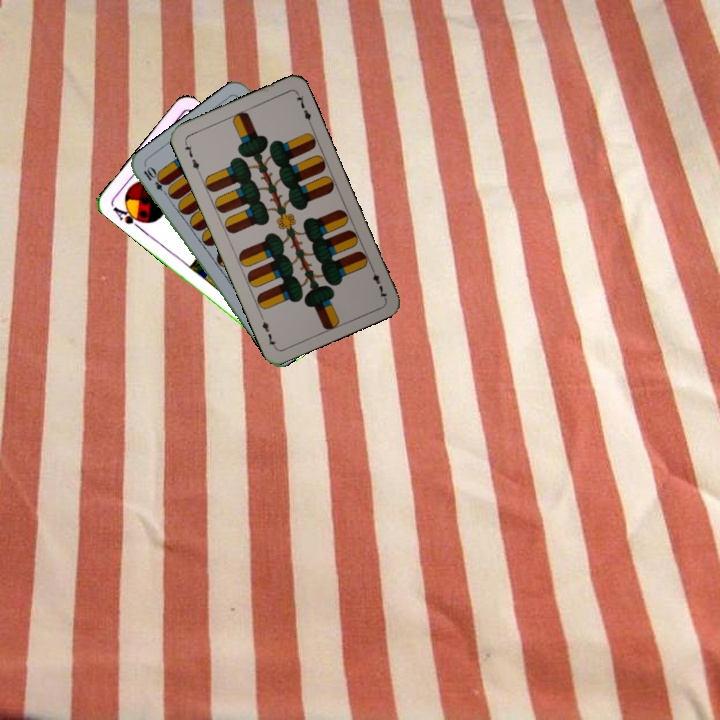E10: (139, 163, 172, 199)
E7: (366, 262, 389, 301), (181, 138, 203, 176)
SA: (109, 201, 147, 232)
